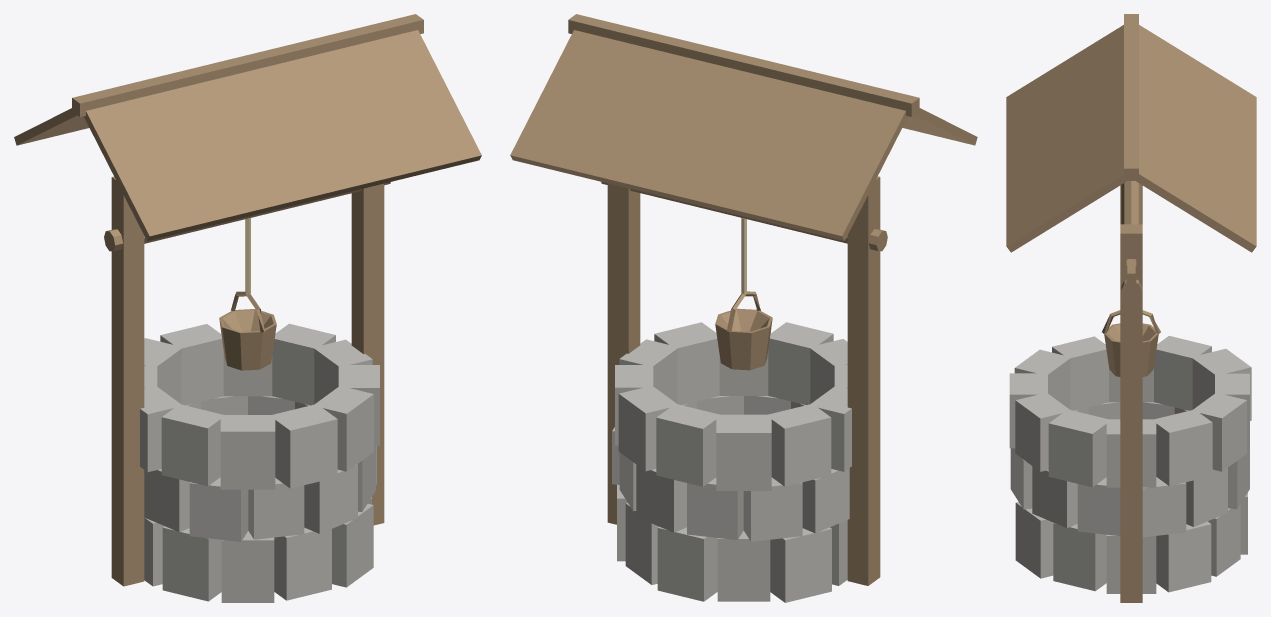
The model's file is 40-Infraestructura_pozo_piedra.glb.
3 renders of one model, left to right at view 1: azimuth 30°, elevation 25°; view 2: azimuth 150°, elevation 25°; view 3: azimuth 270°, elevation 25°, orthographic. The views are drawn at different scales.
Visible parts, largest first — view 1: SM_Pozo_Piedra; view 2: SM_Pozo_Piedra; view 3: SM_Pozo_Piedra.
Part boxes in pixels (bbox=[...]): SM_Pozo_Piedra: bbox=[14, 14, 481, 602]; SM_Pozo_Piedra: bbox=[510, 14, 977, 602]; SM_Pozo_Piedra: bbox=[1006, 14, 1256, 602].
Bounding box in the file's own units: 1.52 × 2.04 × 1.02.
